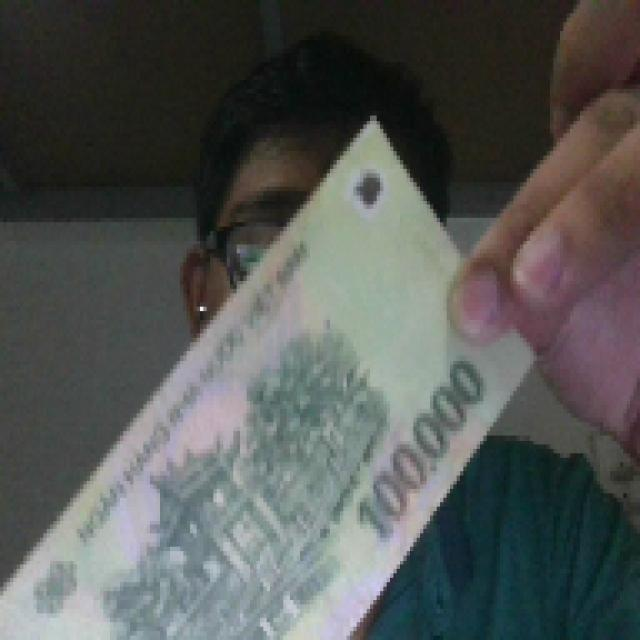100 000 VND: (0, 111, 540, 636)
